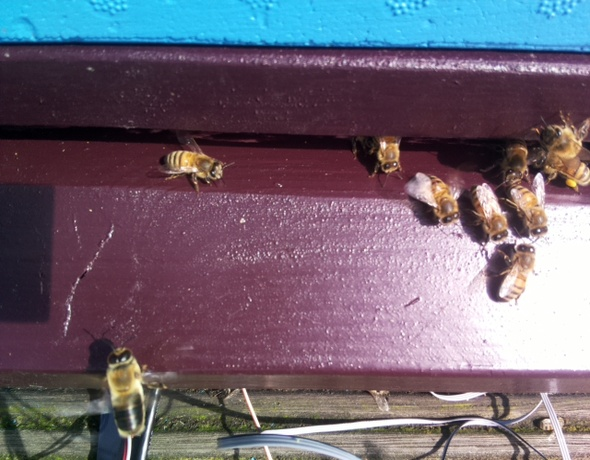no_pollen: (104, 346, 147, 438), (403, 170, 461, 229), (506, 181, 552, 242), (155, 149, 230, 185), (469, 181, 511, 245), (497, 242, 537, 303), (534, 118, 583, 162), (499, 137, 530, 191), (372, 131, 404, 179)
pollen: (534, 149, 590, 194)
